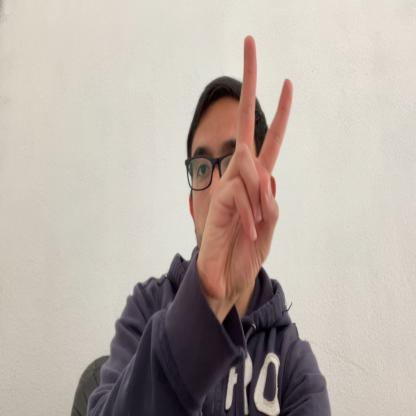V: (204, 34, 294, 308)
